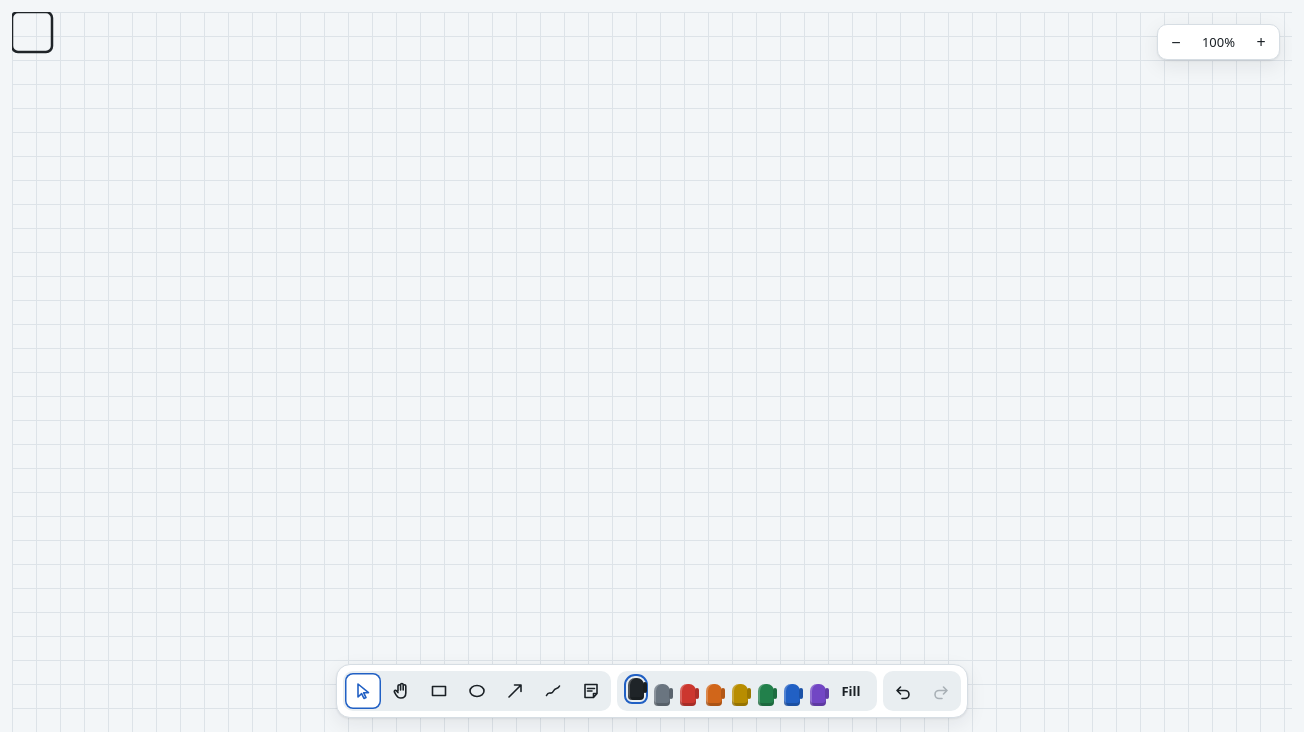
other people › an undo that leaves someone else's change says so, out loud and on screen
The width and height of the screenshot is (1304, 732).
Press the mouse on the picture named "Board with": {"x": 652, "y": 372} [12,12,1292,731]
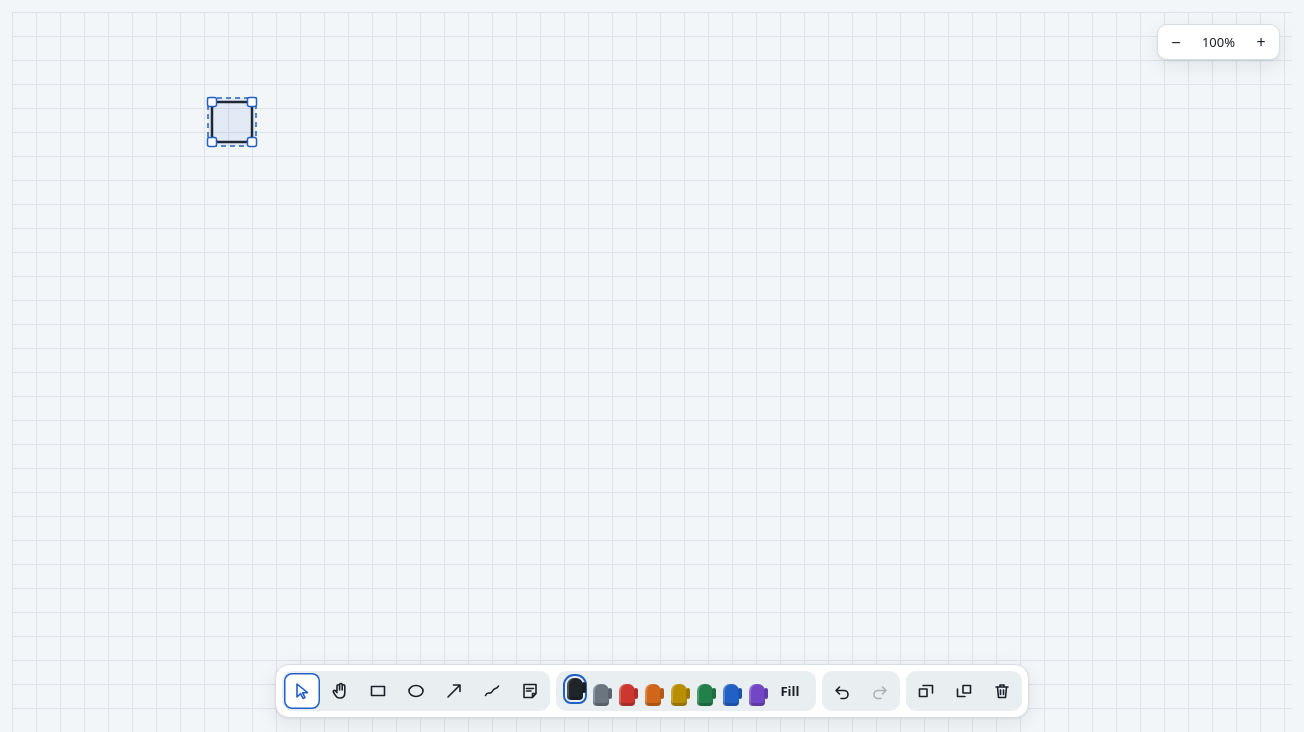
Press z
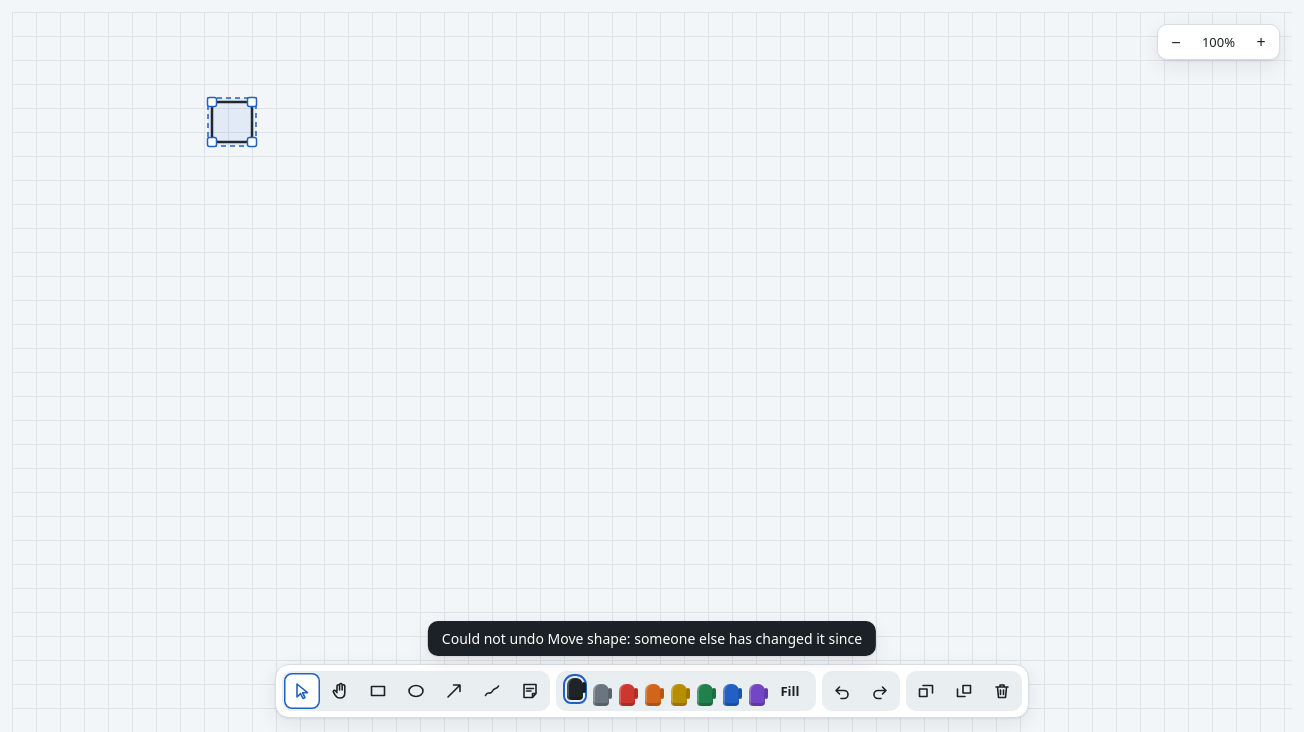
Expected: the text with class "notice" shows "Could not undo Move shape", [442,629,862,648]
